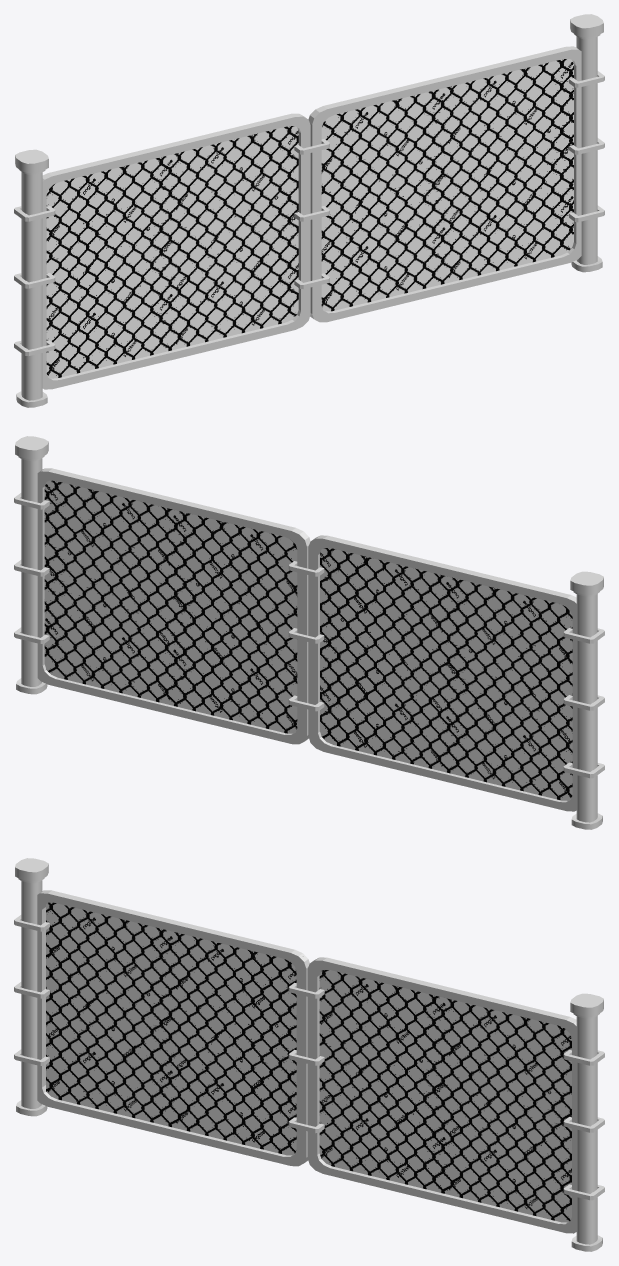
Rendered from Fence3.fbx.
The picture shows the model from 3 angles, top to bottom: view 1: azimuth 30°, elevation 25°; view 2: azimuth 150°, elevation 25°; view 3: azimuth 330°, elevation 25°; orthographic projection.
Visible parts, largest first — view 1: FenceTex, FenceTex.001, Fence.002, Pillar.003, Chain.004; view 2: FenceTex.001, FenceTex, Fence.002, Pillar.003, Chain.004; view 3: FenceTex.001, FenceTex, Fence.002, Pillar.003, Chain.004.
Boxes of the visible parts, bbox=[...] form: FenceTex: bbox=[46, 115, 302, 378]; FenceTex.001: bbox=[321, 59, 573, 311]; Fence.002: bbox=[42, 46, 581, 389]; Pillar.003: bbox=[15, 14, 603, 407]; Chain.004: bbox=[14, 71, 604, 356]; FenceTex.001: bbox=[44, 480, 297, 733]; FenceTex: bbox=[320, 548, 572, 800]; Fence.002: bbox=[37, 468, 576, 811]; Pillar.003: bbox=[15, 436, 603, 829]; Chain.004: bbox=[14, 493, 604, 778]; FenceTex.001: bbox=[319, 969, 571, 1222]; FenceTex: bbox=[46, 902, 303, 1155]; Fence.002: bbox=[37, 890, 576, 1233]; Pillar.003: bbox=[15, 858, 603, 1251]; Chain.004: bbox=[14, 915, 604, 1200].
Bounding box in the file's own units: 1393 × 560 × 63.61.
2 materials, 1 textured.
